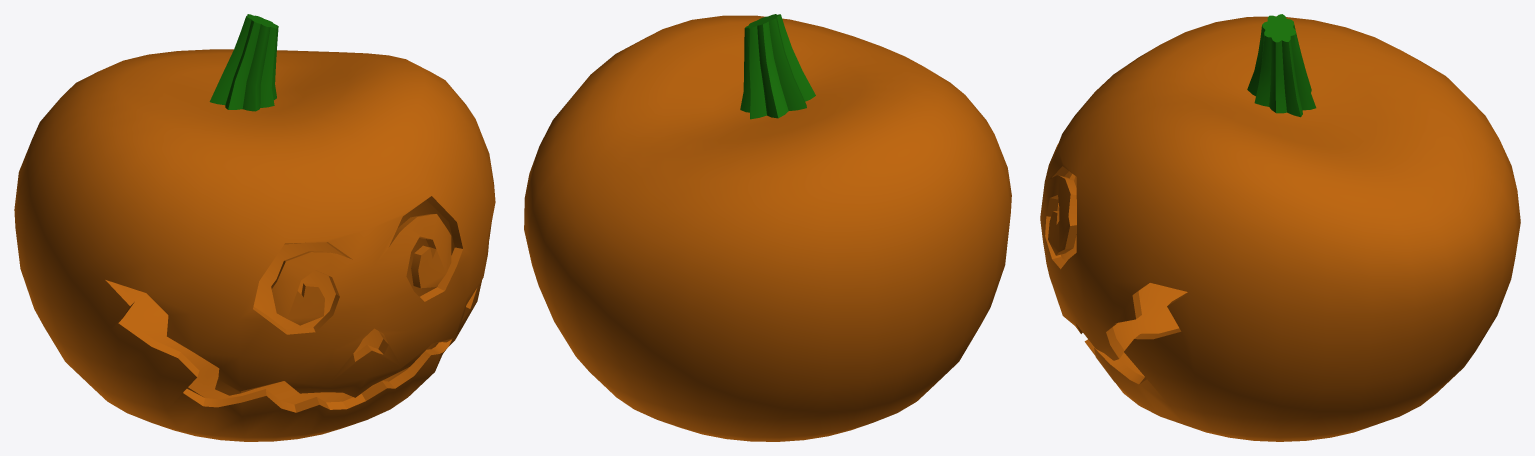
The model's file is pumpkin2.fbx.
The picture shows the model from 3 angles, left to right: view 1: azimuth 30°, elevation 25°; view 2: azimuth 150°, elevation 25°; view 3: azimuth 270°, elevation 25°; orthographic projection.
Parts seen in each view (by area): view 1: Cylinder; view 2: Cylinder; view 3: Cylinder.
Boxes of the visible parts, x1,y1,x2,y2 form: Cylinder: (14, 14, 495, 441); Cylinder: (524, 14, 1011, 441); Cylinder: (1040, 14, 1520, 441).
Size of the model in its own units: 2.01 by 1.73 by 2.01.
